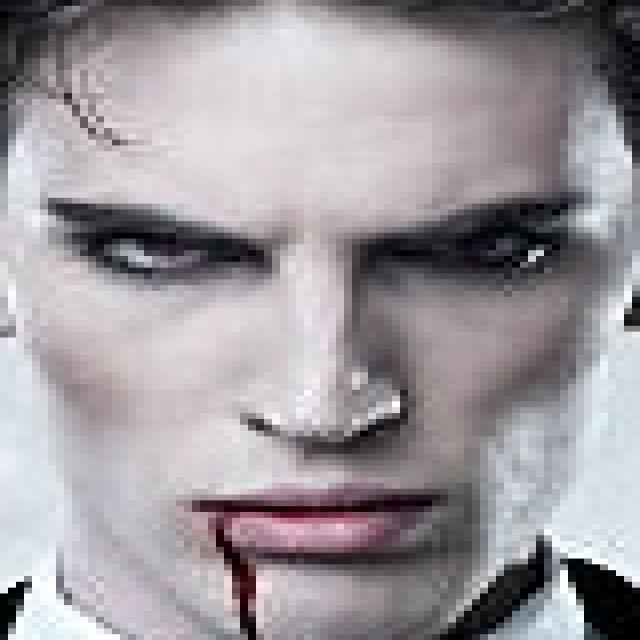Anxiety: (8, 0, 640, 634)
